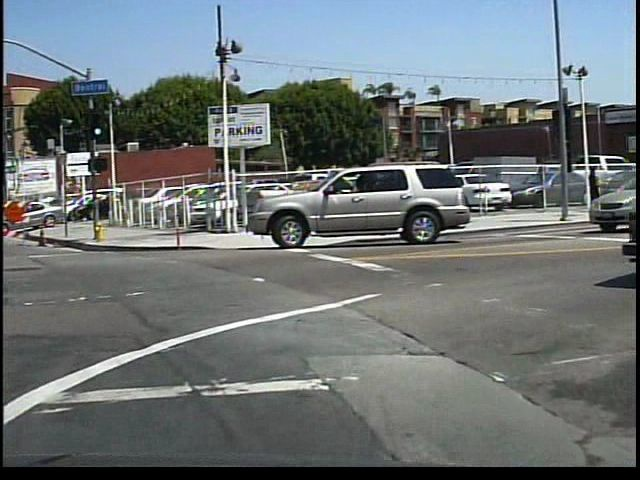person: (582, 164, 605, 217)
